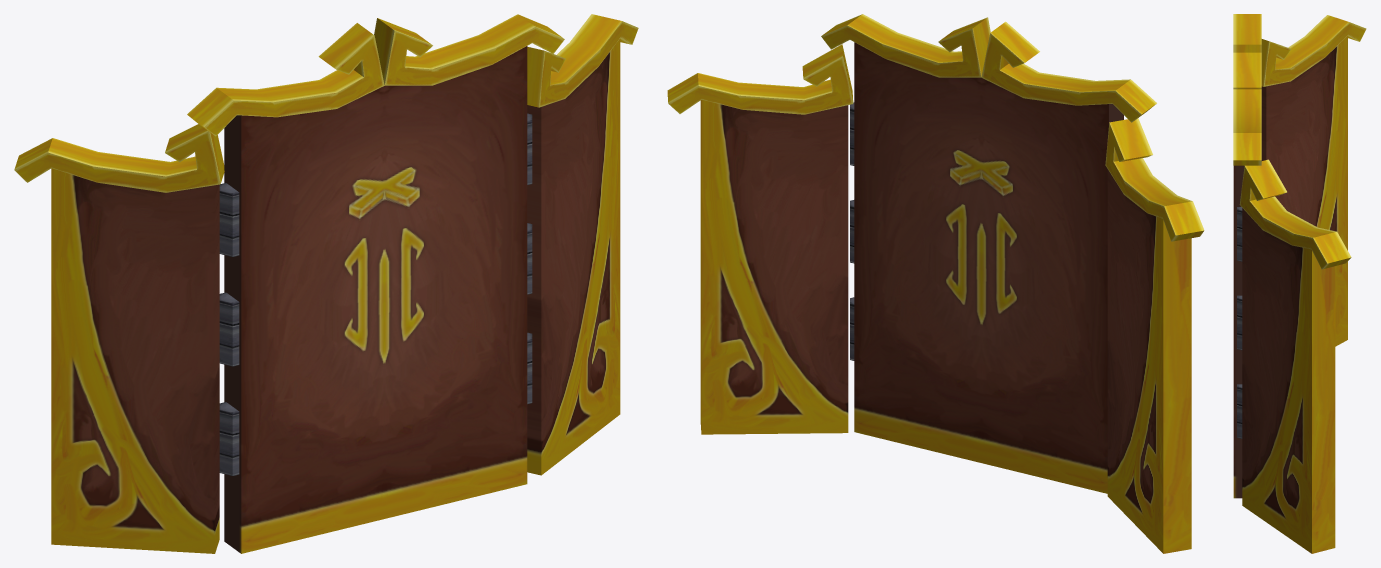
The model's file is e_asset_foldingwall.fbx.
3 views of the same model, side by side, from view 1: azimuth 30°, elevation 25°; view 2: azimuth 150°, elevation 25°; view 3: azimuth 270°, elevation 25° (orthographic). The views are drawn at different scales.
Parts seen in each view (by area): view 1: polySurface1020; view 2: polySurface1020; view 3: polySurface1020.
Boxes of the visible parts, bbox=[...] form: polySurface1020: bbox=[14, 14, 638, 553]; polySurface1020: bbox=[667, 14, 1204, 553]; polySurface1020: bbox=[1233, 14, 1366, 553].
Bounding box in the file's own units: 1.47 × 1.11 × 0.3407.
